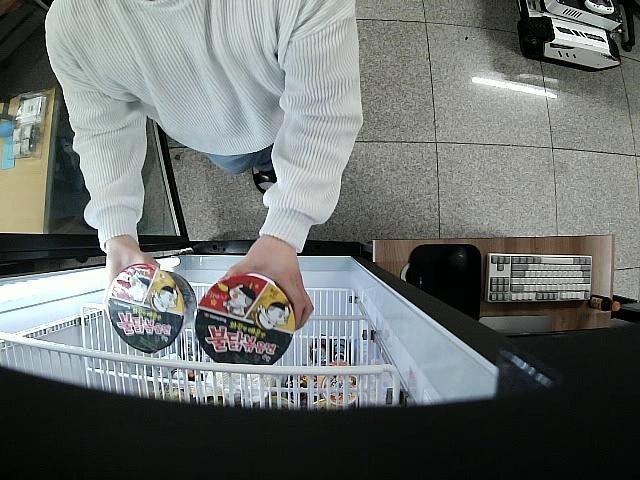07_buldak_L: (197, 276, 296, 366), (106, 267, 195, 352)
